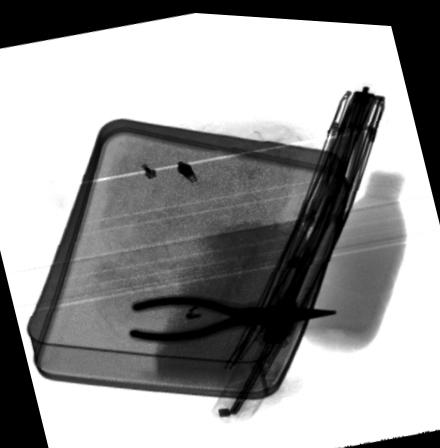Pliers: (126, 292, 340, 341)
